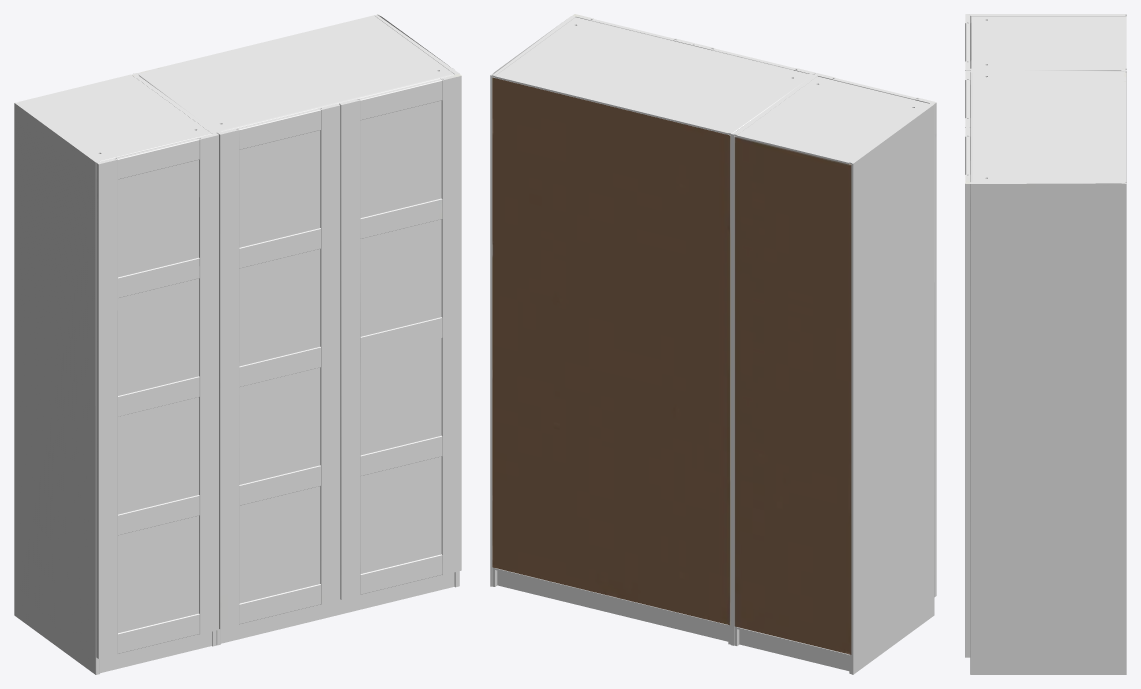
3 renders of one model, left to right at view 1: azimuth 30°, elevation 25°; view 2: azimuth 150°, elevation 25°; view 3: azimuth 270°, elevation 25°, orthographic. The views are drawn at different scales.
Parts seen in each view (by area): view 1: 49500690_wardrobe_combination:1.001; view 2: 49500690_wardrobe_combination:1.001; view 3: 49500690_wardrobe_combination:1.001.
Boxes of the visible parts, bbox=[...] form: 49500690_wardrobe_combination:1.001: bbox=[14, 14, 461, 674]; 49500690_wardrobe_combination:1.001: bbox=[490, 14, 936, 674]; 49500690_wardrobe_combination:1.001: bbox=[965, 14, 1126, 674].
Bounding box in the file's own units: 1.49 × 2.01 × 0.599.
1 material, 1 textured.
